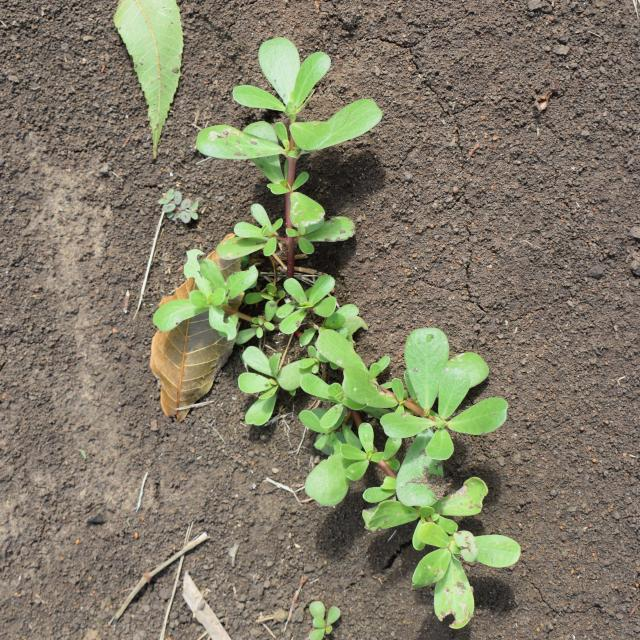Purslane: (152, 37, 523, 630), (308, 600, 342, 640)
SpottedSpurge: (157, 188, 199, 224)
